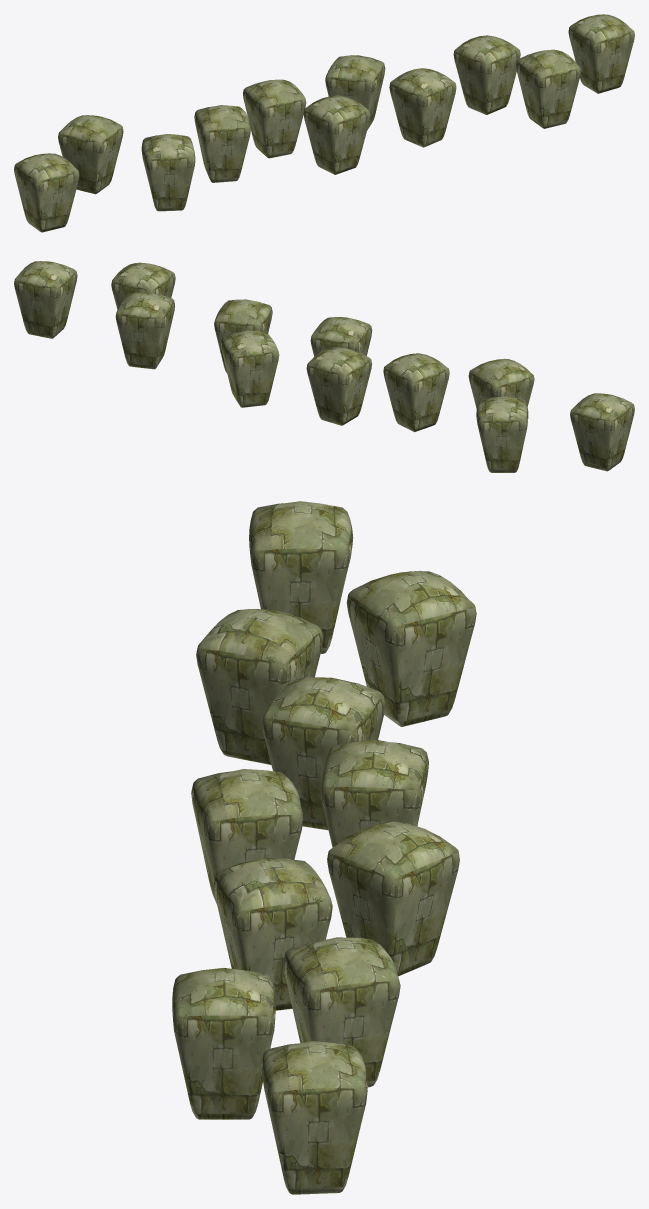
The model's file is zhongjianshitou.FBX.
3 renders of one model, top to bottom at view 1: azimuth 30°, elevation 25°; view 2: azimuth 150°, elevation 25°; view 3: azimuth 270°, elevation 25°, orthographic. The views are drawn at different scales.
Parts seen in each view (by area): view 1: ChamferBox001; view 2: ChamferBox001; view 3: ChamferBox001.
Part boxes in pixels (<box>): ChamferBox001: <box>14,14,634,232</box>; ChamferBox001: <box>14,261,634,472</box>; ChamferBox001: <box>172,501,476,1194</box>.
Bounding box in the file's own units: 73.3 × 7.98 × 16.13.
